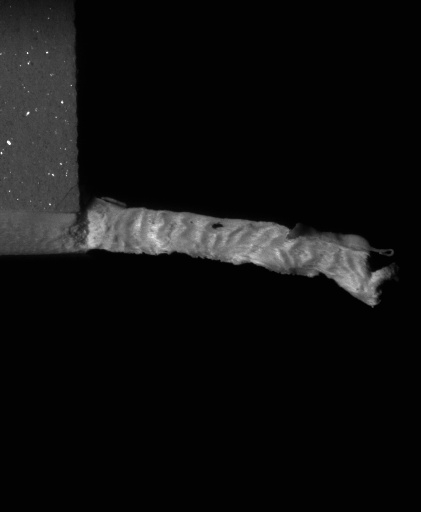changdai: (67, 197, 396, 308)
